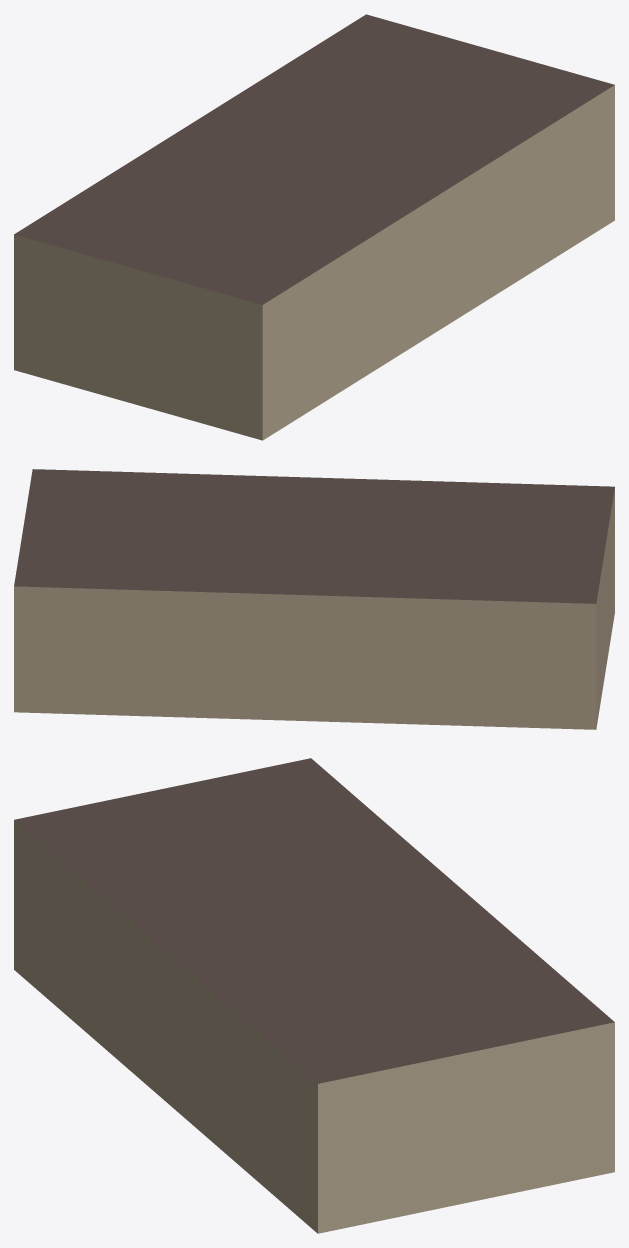
3 renders of one model, top to bottom at view 1: azimuth 30°, elevation 25°; view 2: azimuth 150°, elevation 25°; view 3: azimuth 270°, elevation 25°, orthographic. The views are drawn at different scales.
Parts seen in each view (by area): view 1: HP-w859488752; view 2: HP-w859488752; view 3: HP-w859488752.
Part boxes in pixels (x1,y1,x2,y2): HP-w859488752: (14,14,614,440); HP-w859488752: (14,469,614,729); HP-w859488752: (14,758,614,1233).
Bounding box in the file's own units: 41.93 × 9 × 32.7.
